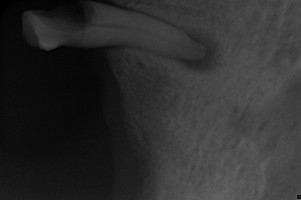Furcation Involvement: (178, 26, 226, 71)
